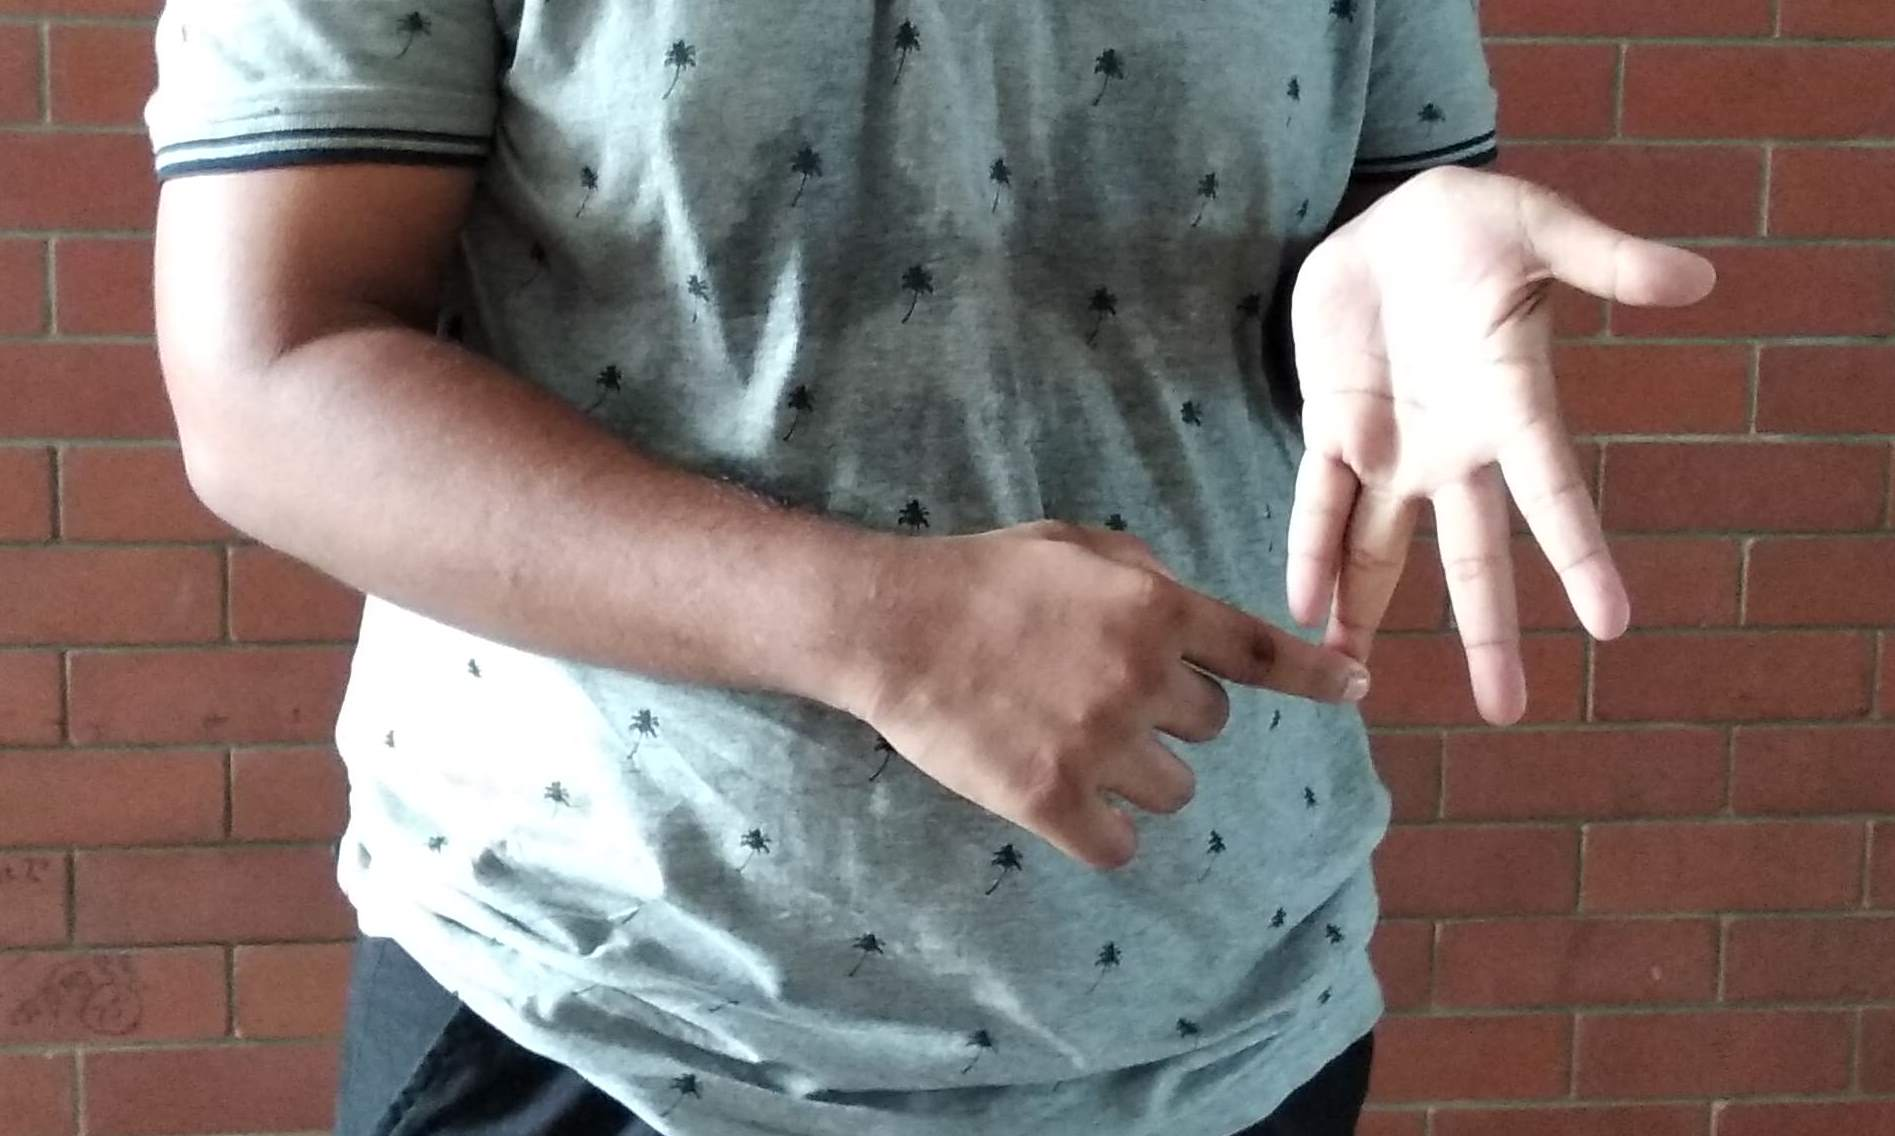e: (965, 249, 1635, 886)
